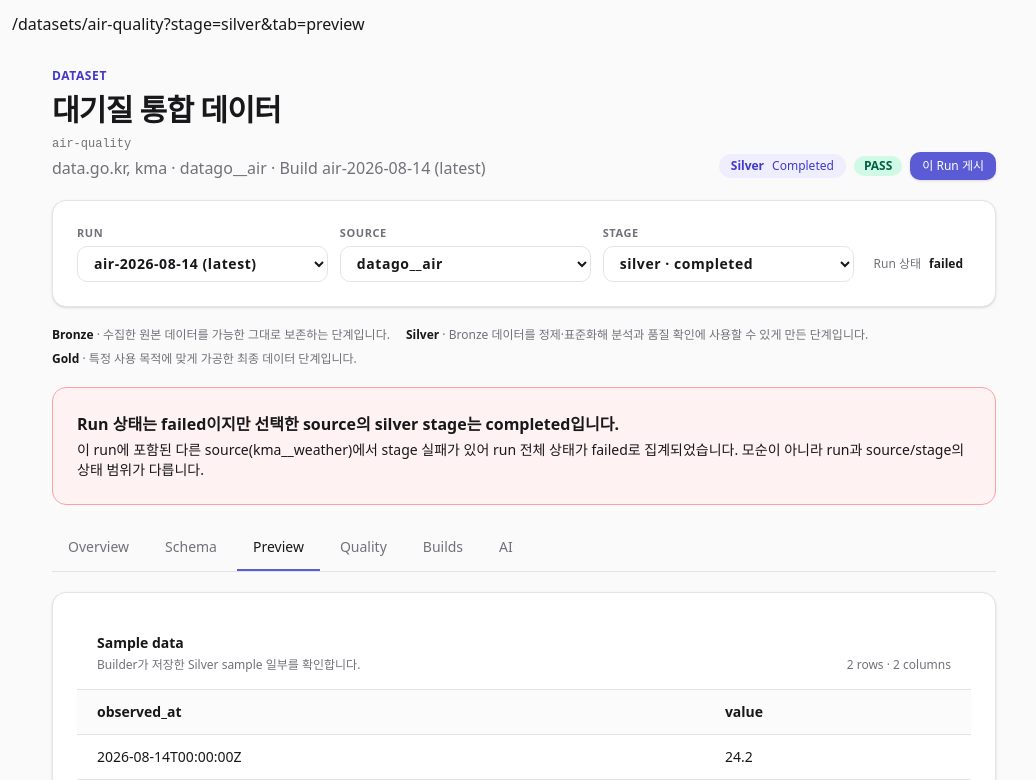
Test: Dataset Detail P0 (#253) › shows only the persisted Silver sample and no fake Gold preview
The width and height of the screenshot is (1036, 780).
Expected: the text "2026-08-14T00:00:00Z" is shown, [77,734,705,779]
Select "gold · completed" in the dropdown named "Stage 선택": (728, 264) [603,246,854,282]
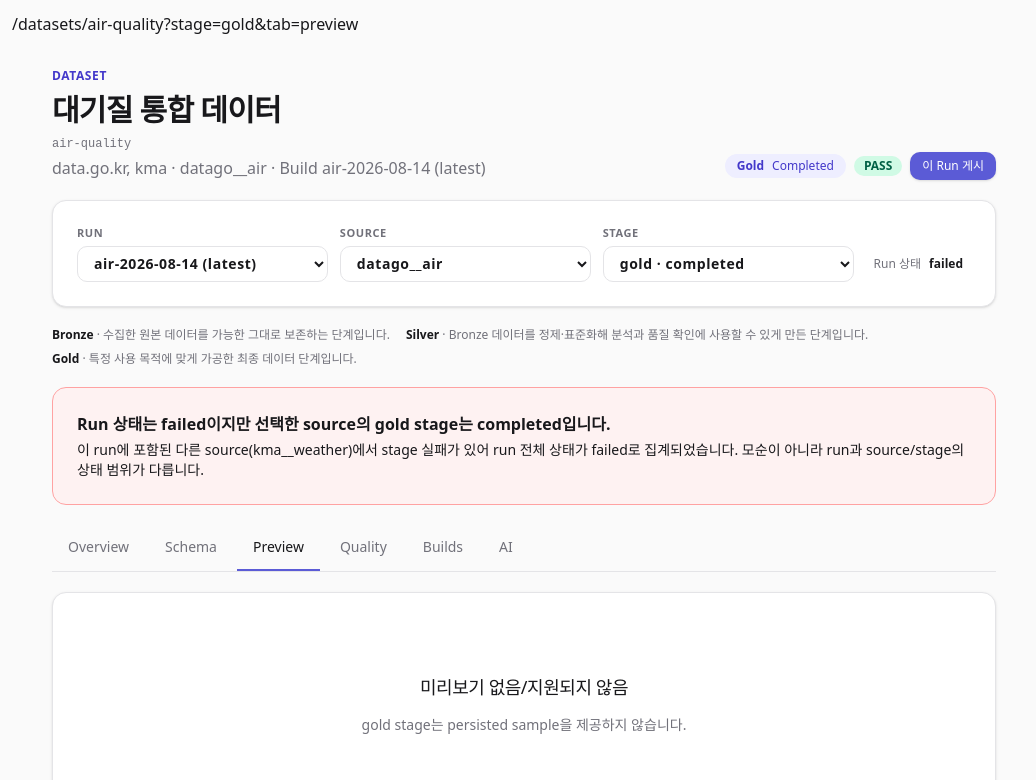
Result: the text "미리보기 없음/지원되지 않음" is shown at [420,672,628,700]
